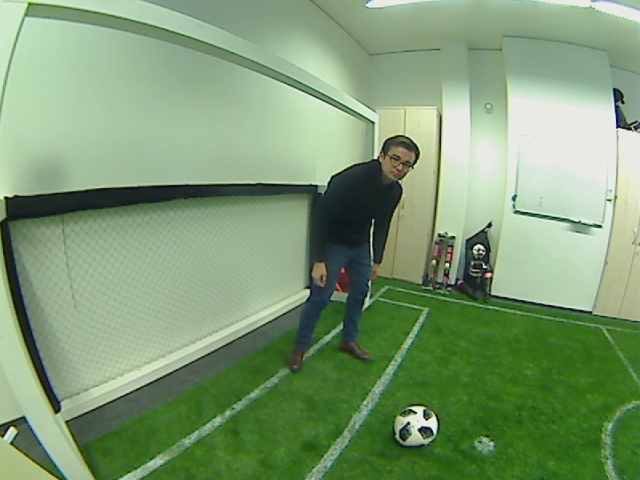ball: (391, 405, 441, 449)
